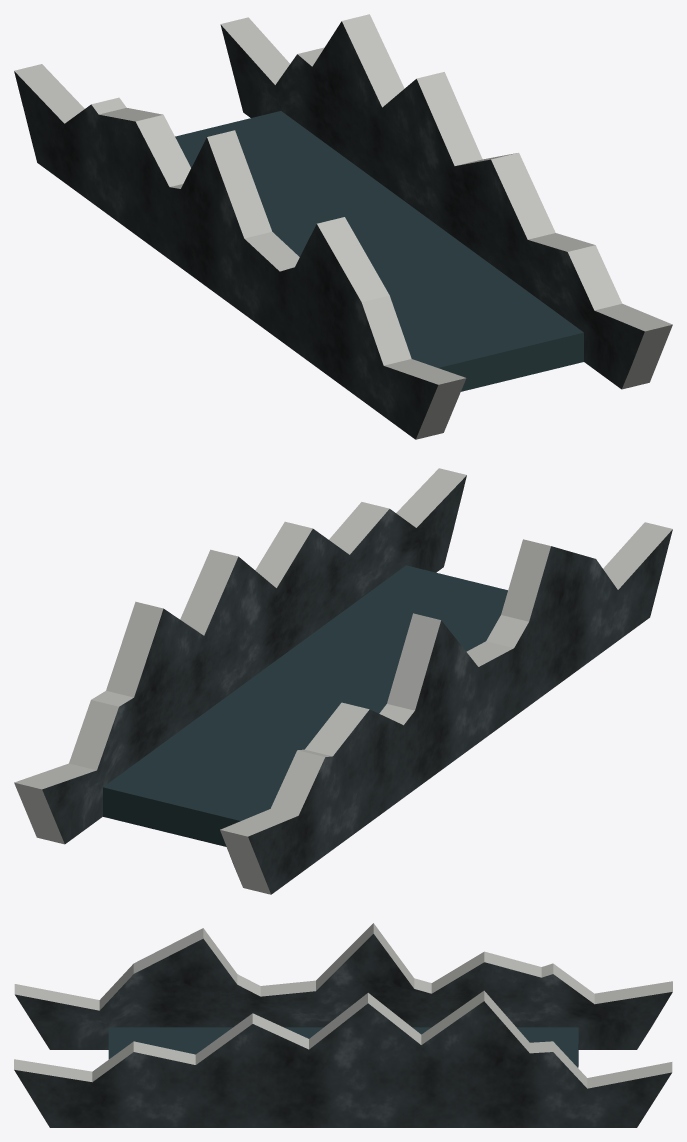
Rendered from OT_056_broken_wall_arch_deco.glb.
3 views of the same model, one above another, from view 1: azimuth 30°, elevation 25°; view 2: azimuth 150°, elevation 25°; view 3: azimuth 270°, elevation 25° (orthographic). The views are drawn at different scales.
Visible parts, largest first — view 1: broken_wall, broken_wall_corner, broken_wall_corner.001; view 2: broken_wall, broken_wall_corner.001, broken_wall_corner; view 3: broken_wall, broken_wall_corner.001, broken_wall_corner.
Boxes of the visible parts, x1=… form: broken_wall: x1=91, y1=14, x2=595, y2=399; broken_wall_corner: x1=361, y1=245, x2=672, y2=439; broken_wall_corner.001: x1=14, y1=17, x2=297, y2=201; broken_wall: x1=91, y1=502, x2=595, y2=854; broken_wall_corner.001: x1=14, y1=700, x2=325, y2=894; broken_wall_corner: x1=389, y1=468, x2=672, y2=656; broken_wall: x1=133, y1=923, x2=553, y2=1127; broken_wall_corner.001: x1=553, y1=964, x2=672, y2=1127; broken_wall_corner: x1=14, y1=964, x2=133, y2=1127.
Size of the model in its own units: 0.75 by 0.5008 by 2.36.
Materials: 6 (2 with a texture image).
